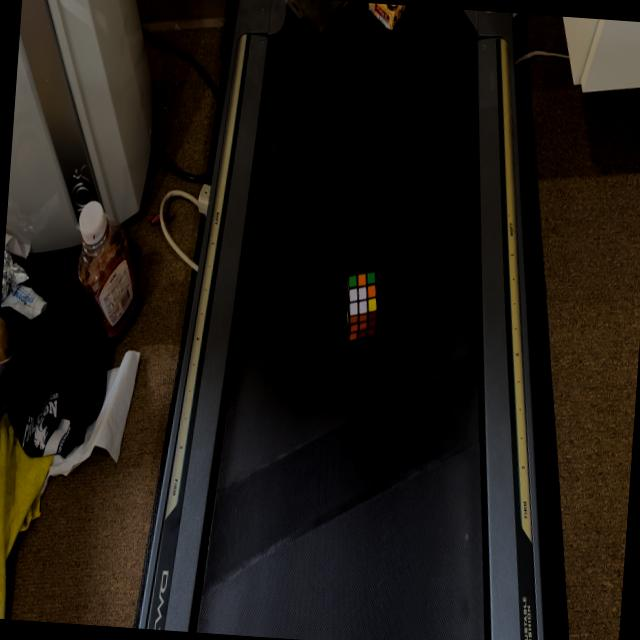Trash: (340, 268, 381, 346), (365, 2, 408, 34)
